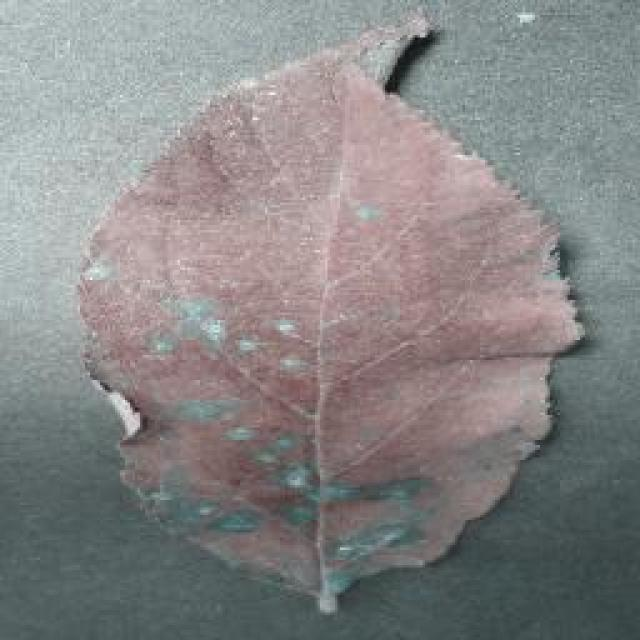apple healthy: (73, 12, 585, 612)
